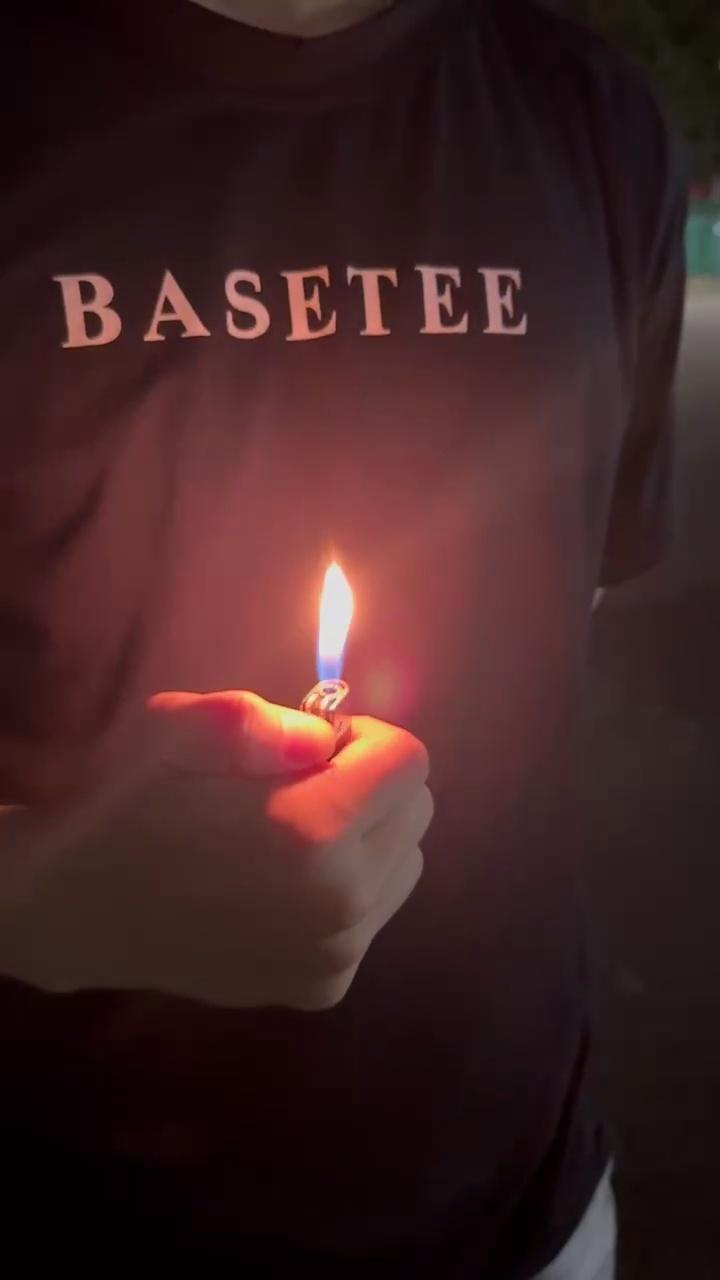Fire: (298, 542, 385, 712)
